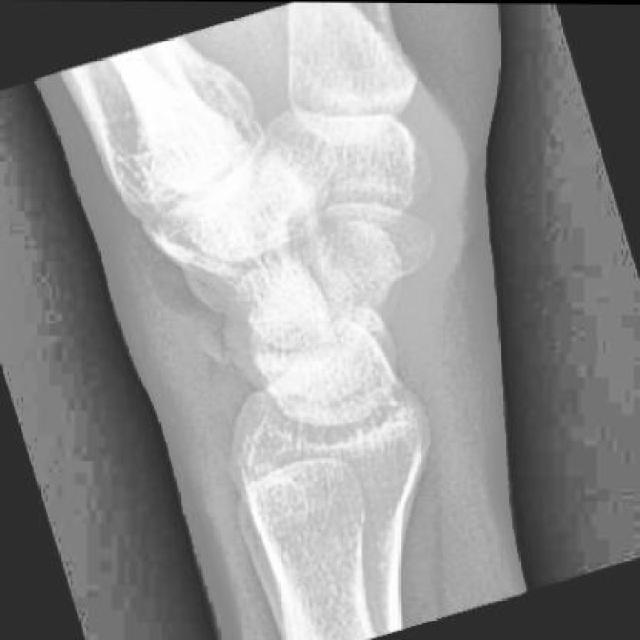Fracture: (180, 297, 262, 387)
